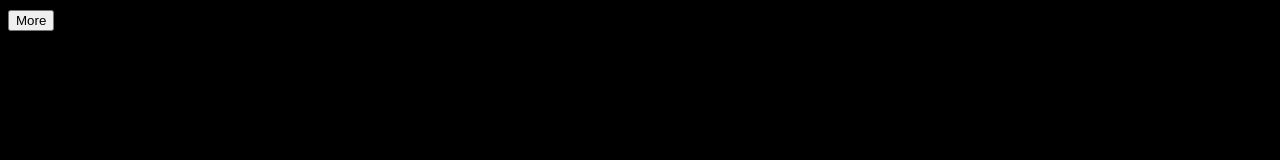
it: Menu › trigger keeps its own ref and handlers
The width and height of the screenshot is (1280, 160).
Click the button "More" at (31, 20), box [8,10,54,31]
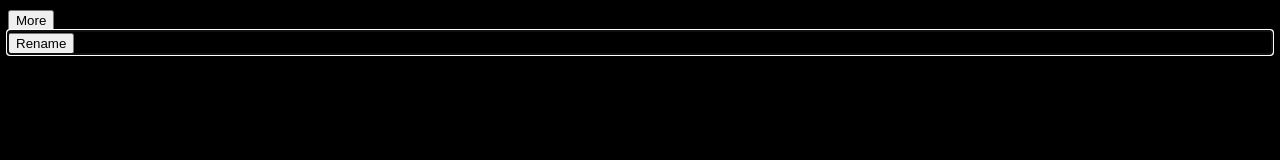
Check: the menu is shown, box [8,33,74,54]
